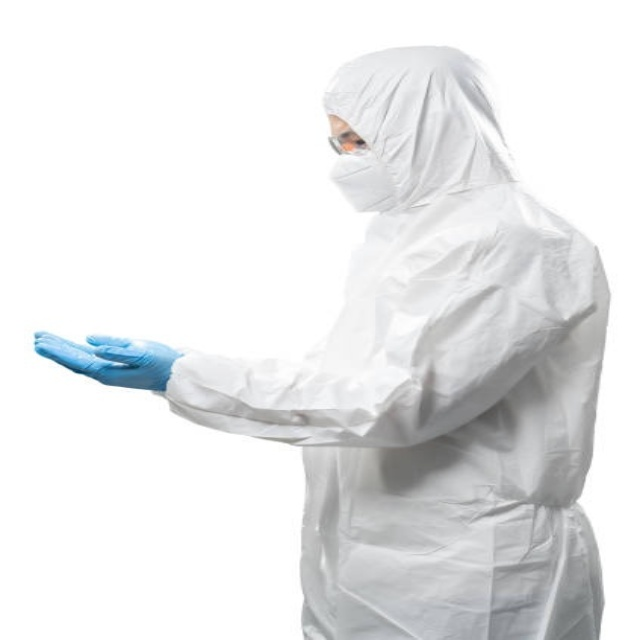Gafas: (328, 134, 370, 156)
Guantes: (38, 332, 185, 392)
Mascara: (329, 147, 397, 211)
